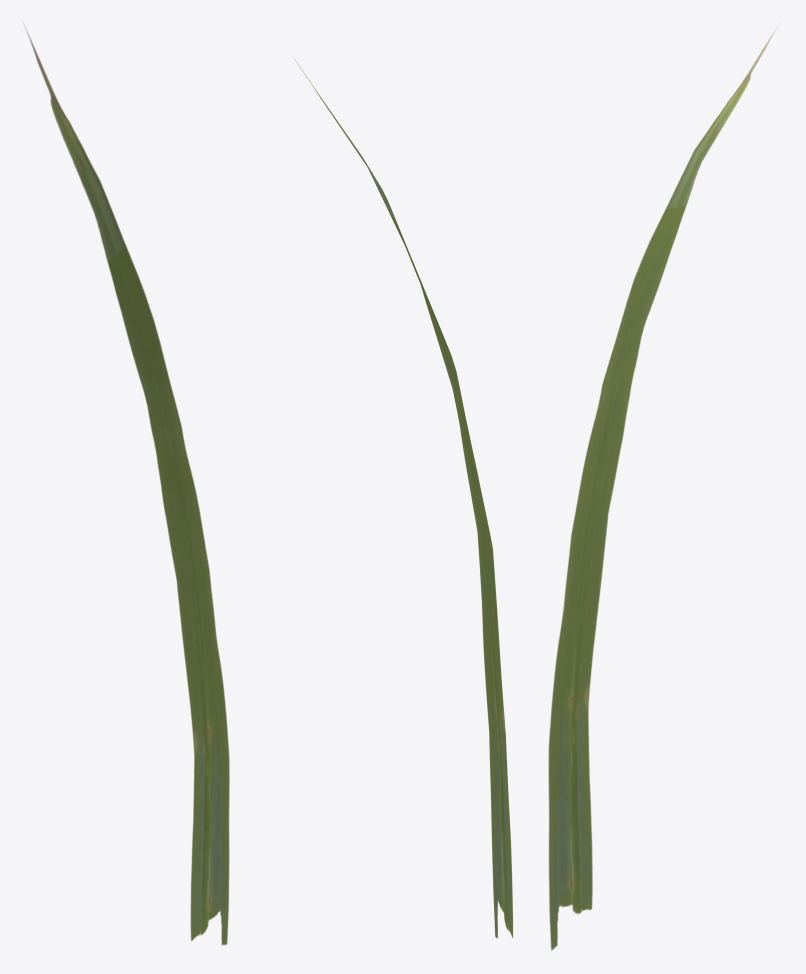
File: basic-grass.glb
The picture shows the model from 3 angles, left to right: view 1: azimuth 90°, elevation 25°; view 2: azimuth 150°, elevation 25°; view 3: azimuth 270°, elevation 25°; orthographic projection. The views are drawn at different scales.
Parts seen in each view (by area): view 1: Object_2; view 2: Object_2; view 3: Object_2.
Part boxes in pixels (x1=…): Object_2: x1=24, y1=25, x2=229, y2=945; Object_2: x1=294, y1=59, x2=513, y2=938; Object_2: x1=548, y1=23, x2=779, y2=950.
Bounding box in the file's own units: 1.2 × 6.67 × 1.5.
1 material, 1 textured.
